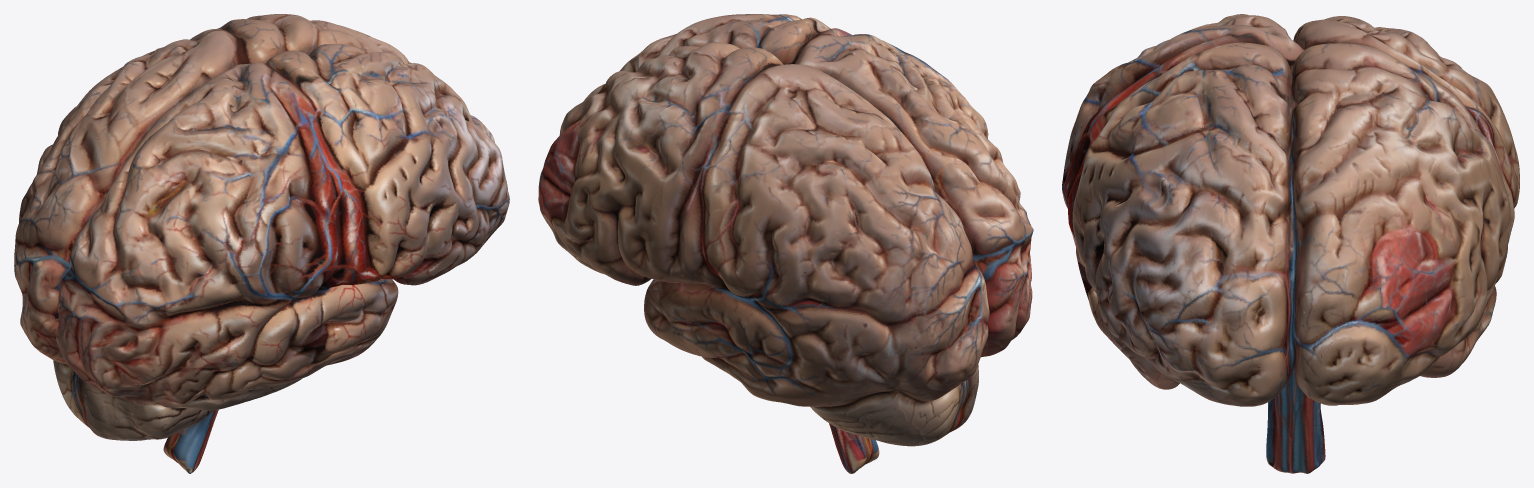
File: Brain.glb
The picture shows the model from 3 angles, left to right: view 1: azimuth 30°, elevation 25°; view 2: azimuth 150°, elevation 25°; view 3: azimuth 270°, elevation 25°; orthographic projection. The views are drawn at different scales.
Bounding box in the file's own units: 2 × 1.8 × 1.56.
1 material, 1 textured.
